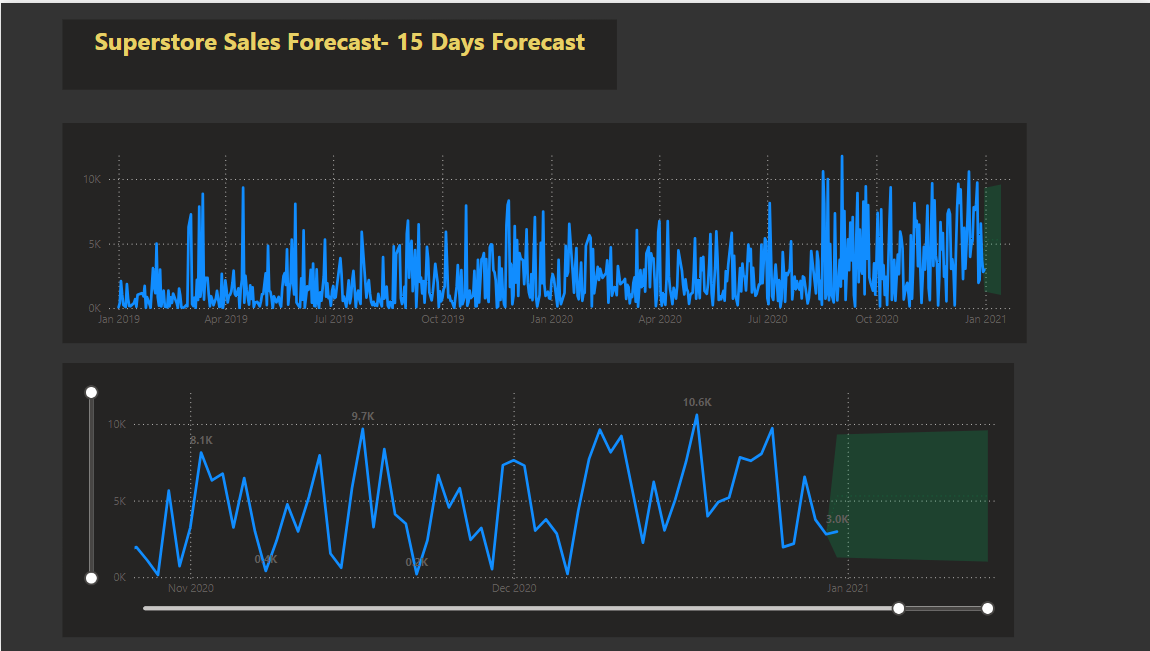

What the dashboard file says about the page in this screenshot:
{"tool":"powerbi","page":{"name":"Page 2","canvas":[1280,720],"ordinal":1},"visuals":[{"type":"lineChart","fields":{"Y":["Sum(SuperStore_Sales_Dataset.Sales)"],"Category":["SuperStore_Sales_Dataset.Order Date"]},"box":[68.3,133.3,1071.4,244.4],"z":0},{"type":"lineChart","fields":{"Y":["Sum(SuperStore_Sales_Dataset.Sales)"],"Category":["SuperStore_Sales_Dataset.Order Date"]},"box":[68.3,400,1057.1,304.8],"z":1000},{"type":"textbox","box":[68.3,19,615.9,77.8],"z":2000}]}

Visuals, with their boxes in screenshot pixels (x1, y1, x2, y2), scaled from the page's 1280x720 canvas onto the 1150x651 screenshot:
lineChart - Sum(SuperStore_Sales_Dataset.Sales) x SuperStore_Sales_Dataset.Order Date: (61,121,1024,342)
lineChart - Sum(SuperStore_Sales_Dataset.Sales) x SuperStore_Sales_Dataset.Order Date: (61,362,1011,637)
textbox: (61,17,615,88)
